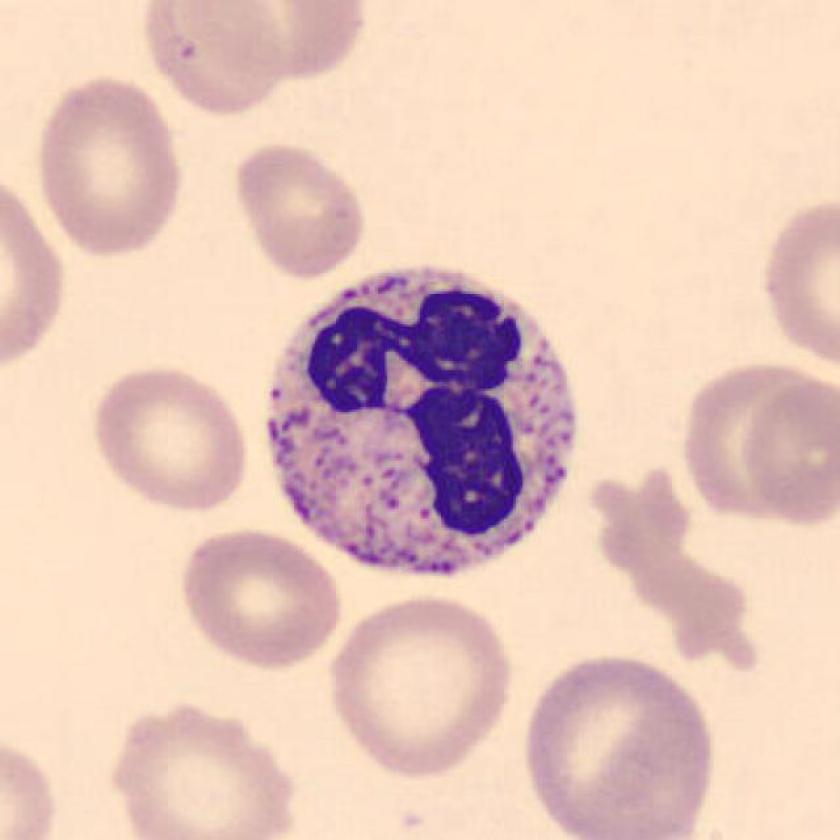neutrophil: (267, 269, 572, 575)
